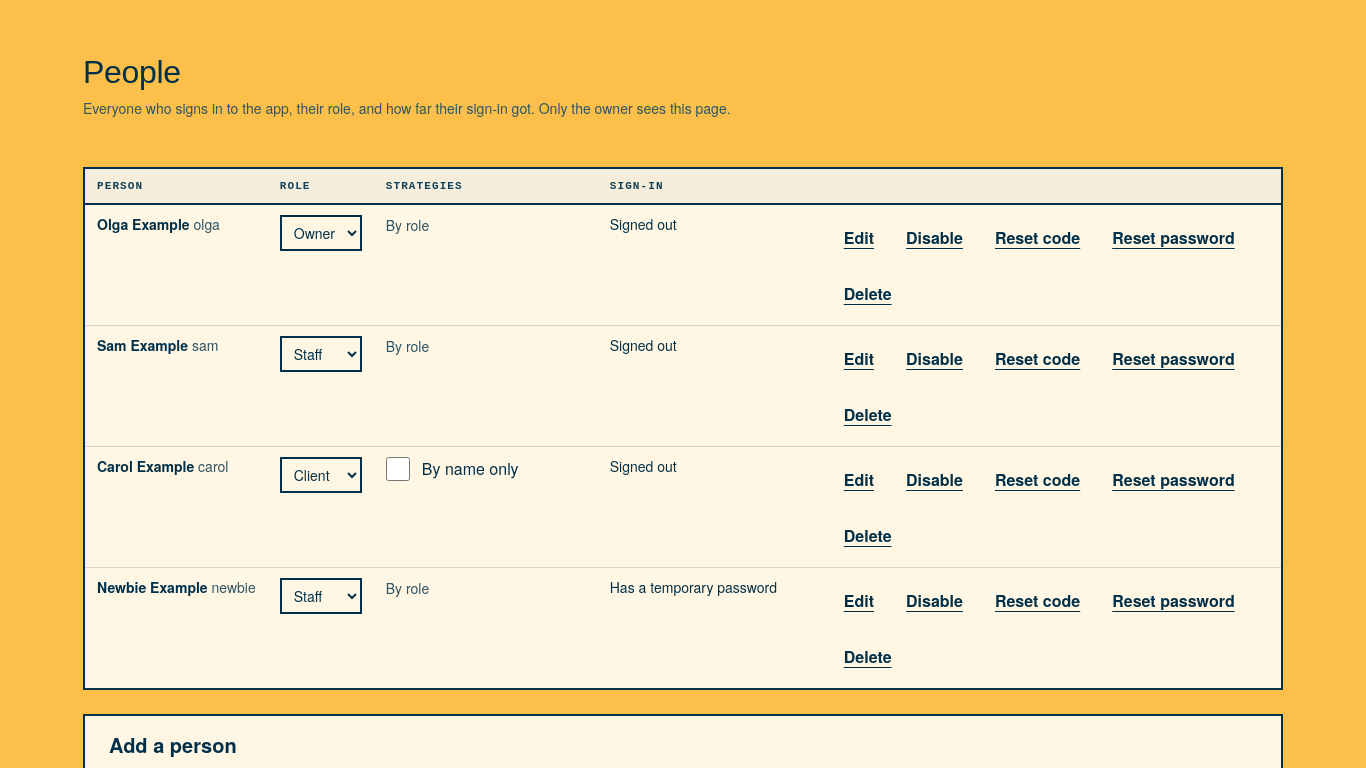
Test: People › trusts a client with the strategies at once, and only a client: staff and the owner have them by role
This screenshot has width=1366, height=768.
Click the checkbox named "Trust carol with the strategies" at (398, 469), box [386,457,410,481]
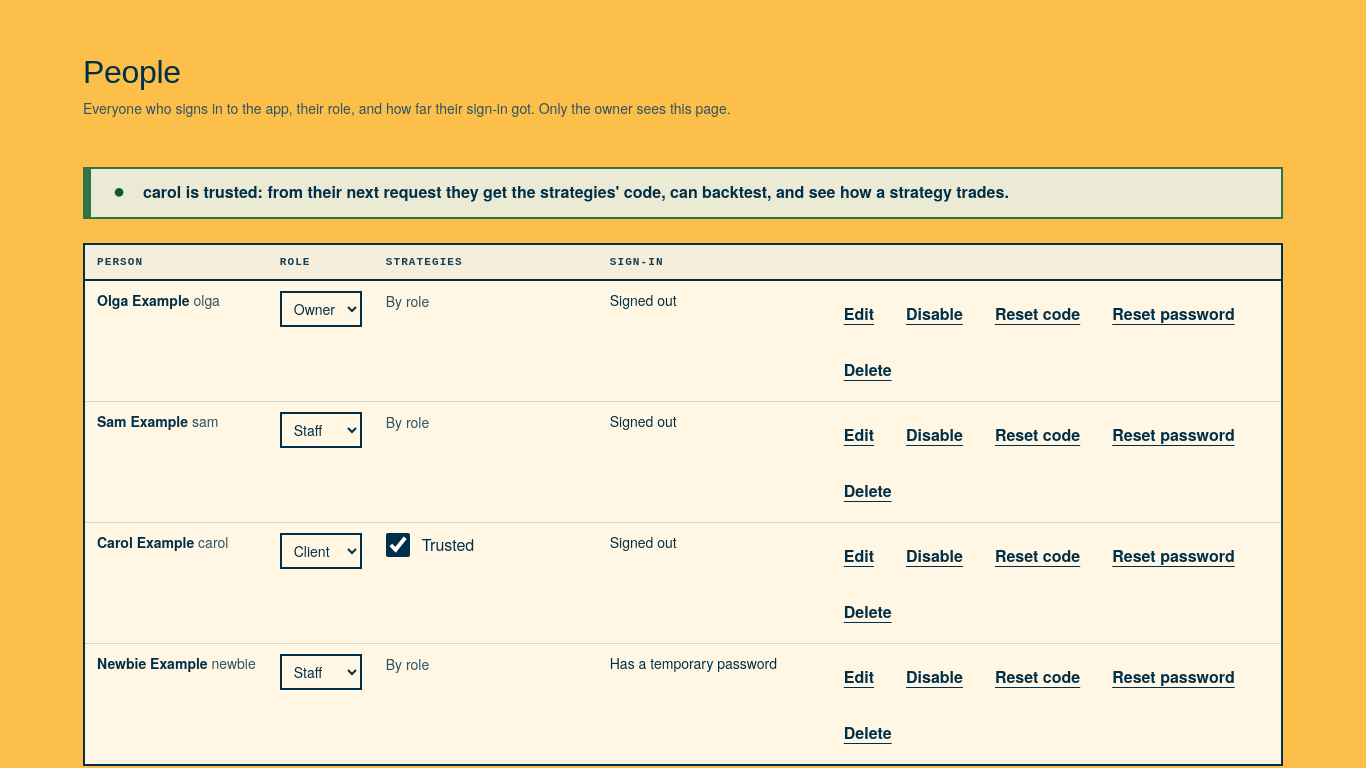
Check: the text "By role" in the row of "Olga Example" is shown, box [386,291,429,311]
Check: the checkbox named "Trust carol with the strategies" is checked, box [386,533,410,557]
Check: the text "carol is trusted:" is shown, box [143,180,1009,203]
